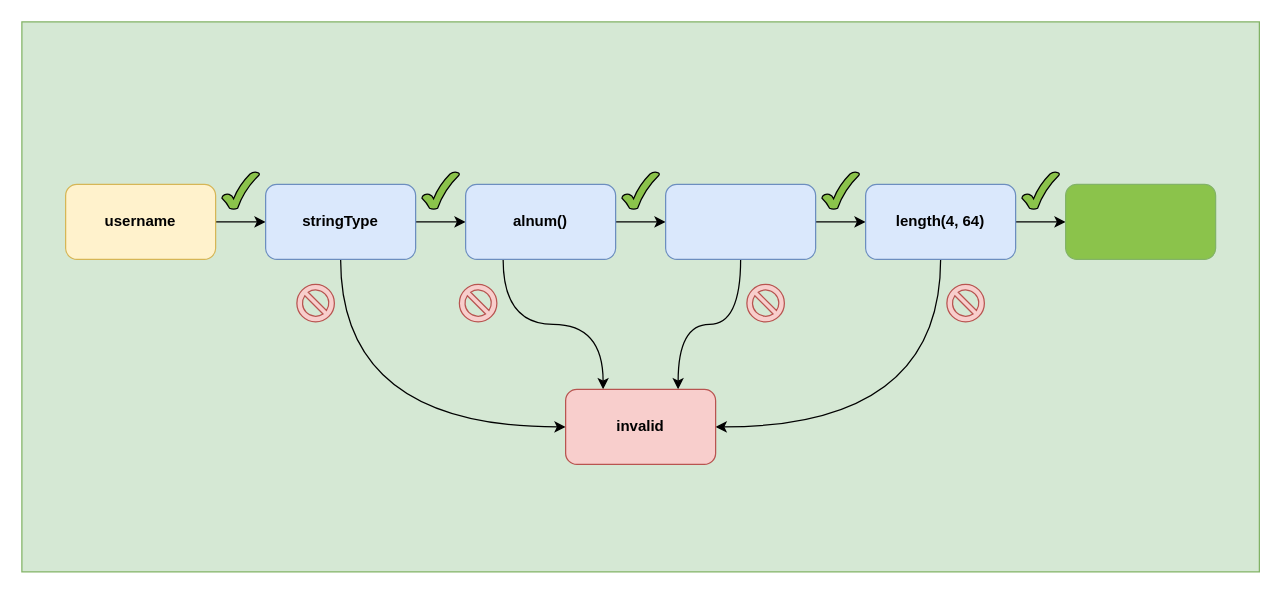
Some shapes in this 1281 by 594 pixel diagram are drawn without their labels. The shapes that lost their labels are listed below. From the top down, each one's box as (x1, y1, x2, y2) in pixels, then its label:
(664, 183, 816, 259): noWhitespace()
(1064, 183, 1216, 259): valid
